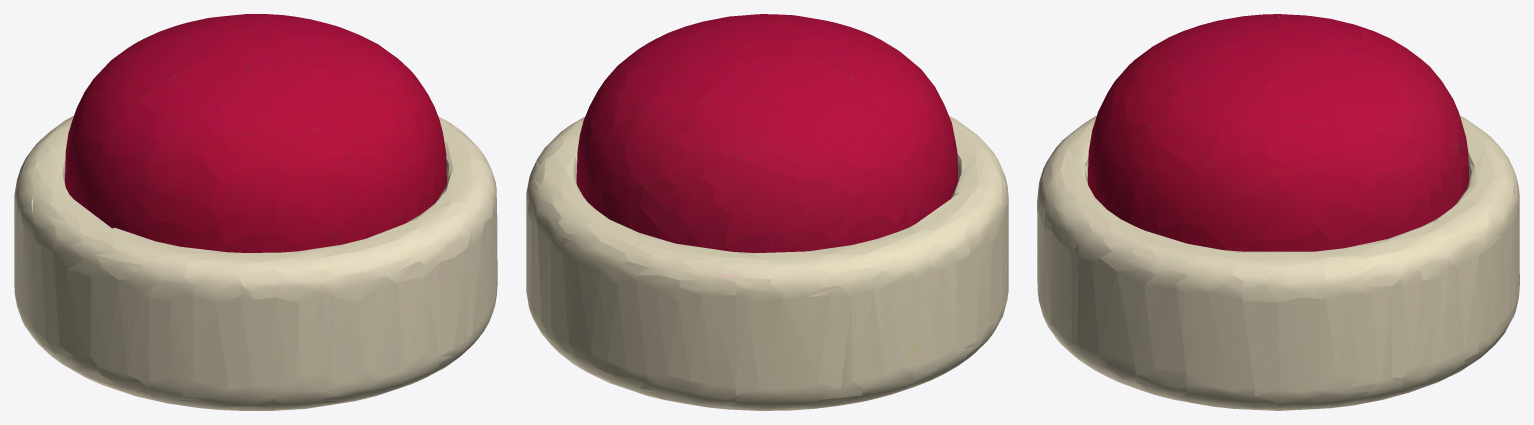
File: coop_switch.glb
3 renders of one model, left to right at view 1: azimuth 30°, elevation 25°; view 2: azimuth 150°, elevation 25°; view 3: azimuth 270°, elevation 25°, orthographic.
Size of the model in its own units: 1.9 by 1.22 by 1.9.
1 material, 1 textured.
